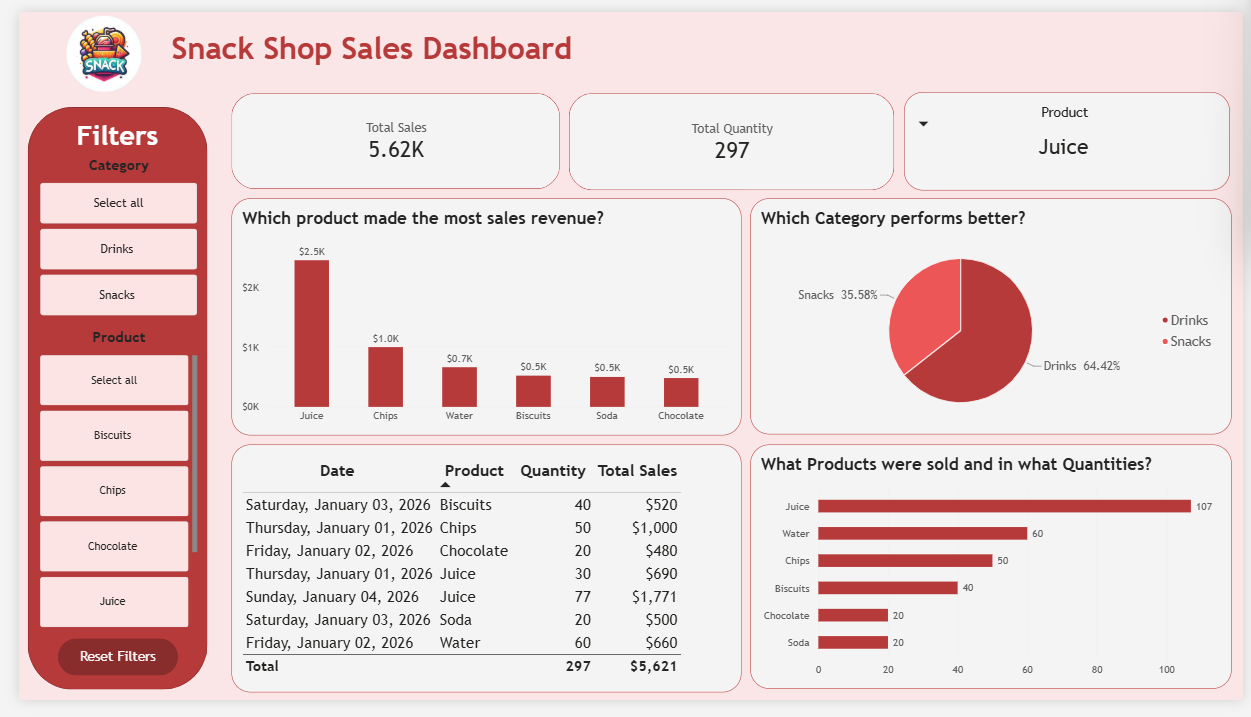

The page's visual inventory and layout, read from the dashboard file:
{"tool":"powerbi","page":{"name":"Page 1","canvas":[1920,1080],"ordinal":0},"visuals":[{"type":"cardVisual","title":"Total Sales","fields":{"Data":["Sum(cln_SnackShopSales.Total_sales)"]},"box":[332.6,128.3,515.2,150],"z":0},{"type":"clusteredColumnChart","title":"Which product made the most sales revenue?","fields":{"Category":["cln_SnackShopSales.Product "],"Y":["Sum(cln_SnackShopSales.Total_sales)"]},"box":[332.6,291.3,800,371.7],"z":1000},{"type":"pieChart","title":"Which Category performs better?","fields":{"Category":["cln_SnackShopSales.Category "],"Y":["Sum(cln_SnackShopSales.Total_sales)"]},"box":[1146.5,292.3,755.4,370.5],"z":2000},{"type":"tableEx","fields":{"Values":["cln_SnackShopSales.Date ","cln_SnackShopSales.Product ","Sum(cln_SnackShopSales.Quantity )","Sum(cln_SnackShopSales.Total Sales)"]},"box":[332.6,678.3,800,389.1],"z":3000},{"type":"cardVisual","fields":{"Data":["cln_SnackShopSales.total quantity"]},"box":[863,128.3,510.9,152.2],"z":4000},{"type":"shape","box":[14.4,148.2,282,913.9],"z":5000},{"type":"tableEx","fields":{"Values":["cln_SnackShopSales.Product "]},"box":[1389.1,126.1,510.9,154.3],"z":6000},{"type":"image","box":[74.1,6.2,117.3,119.4],"z":7000},{"type":"textbox","box":[238.8,28.8,753.3,67.9],"z":8000},{"type":"textbox","box":[90.6,168.8,131.7,57.6],"z":9000},{"type":"advancedSlicerVisual","fields":{"Values":["cln_SnackShopSales.Category "]},"box":[32.9,226.4,247,251.1],"z":10000},{"type":"advancedSlicerVisual","fields":{"Values":["cln_SnackShopSales.Product "]},"box":[32.9,496.1,247,471.4],"z":11000},{"type":"clusteredBarChart","title":"What Products were sold and in what Quantities?","fields":{"Category":["cln_SnackShopSales.Product "],"Y":["cln_SnackShopSales.total quantity"]},"box":[1146.5,679.2,755.4,382.8],"z":12000},{"type":"actionButton","box":[60.8,982.4,188.9,58.7],"z":13000}]}

Visuals, with their boxes in screenshot pixels (x1, y1, x2, y2), scaled from the page's 1920x1080 canvas onto the 1251x717 screenshot:
"Total Sales" cardVisual: locate(217, 85, 552, 185)
"Which product made the most sales revenue?" clusteredColumnChart: locate(217, 193, 738, 440)
"Which Category performs better?" pieChart: locate(747, 194, 1239, 440)
tableEx - cln_SnackShopSales.Date  x cln_SnackShopSales.Product : locate(217, 450, 738, 709)
cardVisual - cln_SnackShopSales.total quantity: locate(562, 85, 895, 186)
shape: locate(9, 98, 193, 705)
tableEx - cln_SnackShopSales.Product : locate(905, 84, 1238, 186)
image: locate(48, 4, 125, 83)
textbox: locate(156, 19, 646, 64)
textbox: locate(59, 112, 145, 150)
advancedSlicerVisual - cln_SnackShopSales.Category : locate(21, 150, 182, 317)
advancedSlicerVisual - cln_SnackShopSales.Product : locate(21, 329, 182, 642)
"What Products were sold and in what Quantities?" clusteredBarChart: locate(747, 451, 1239, 705)
actionButton: locate(40, 652, 163, 691)
